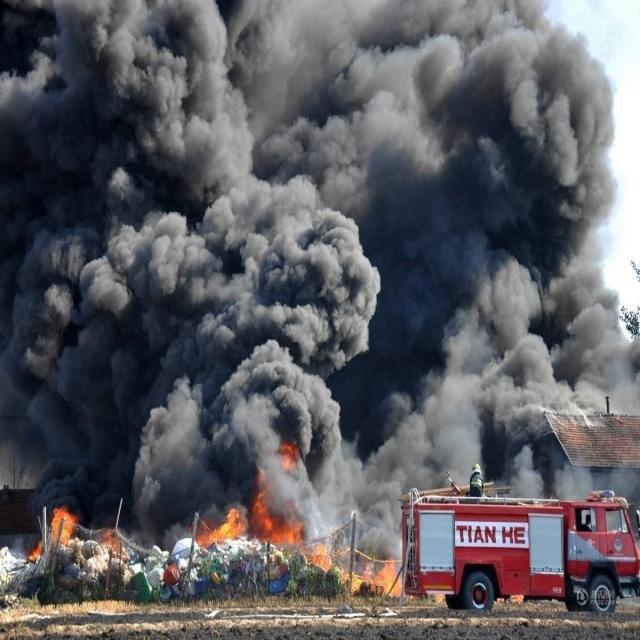Fire: (195, 442, 332, 574), (352, 554, 402, 598), (50, 504, 73, 547), (28, 538, 42, 561)
Smoke: (0, 0, 640, 588)
